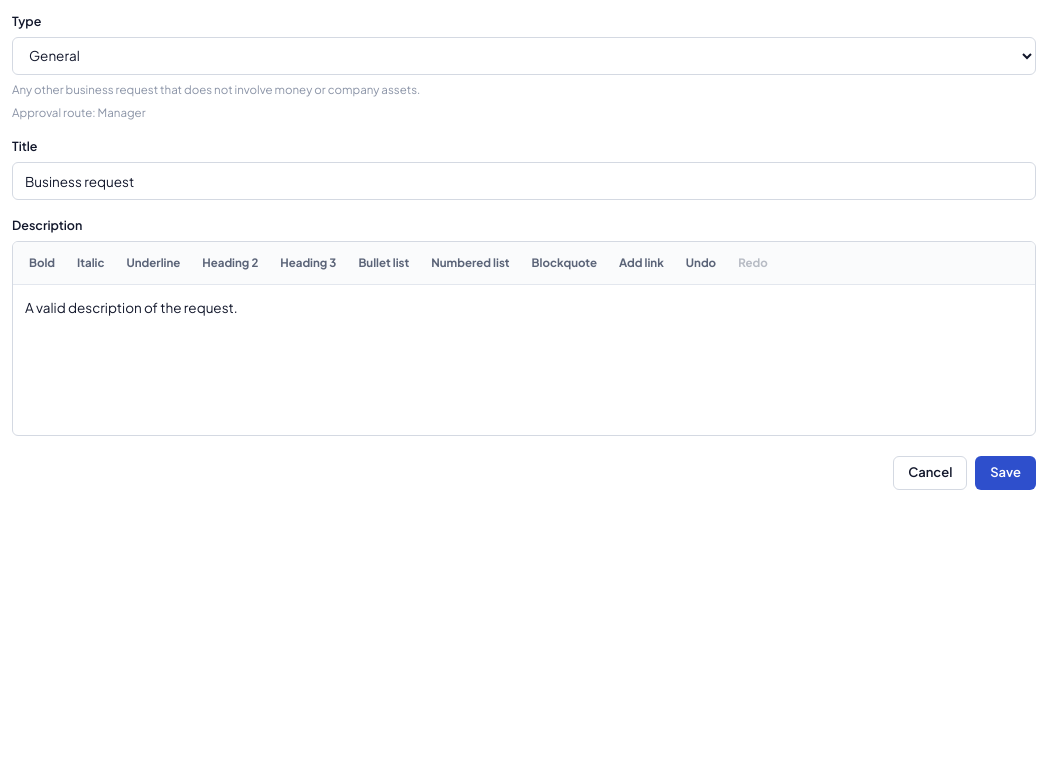
it: request type semantics (M3) › explains the difference between Purchase and Equipment before submitting
The image size is (1048, 780).
Select "Purchase" in the dropdown labelled "Type". click: (524, 56)
box: [12,37,1036,75]
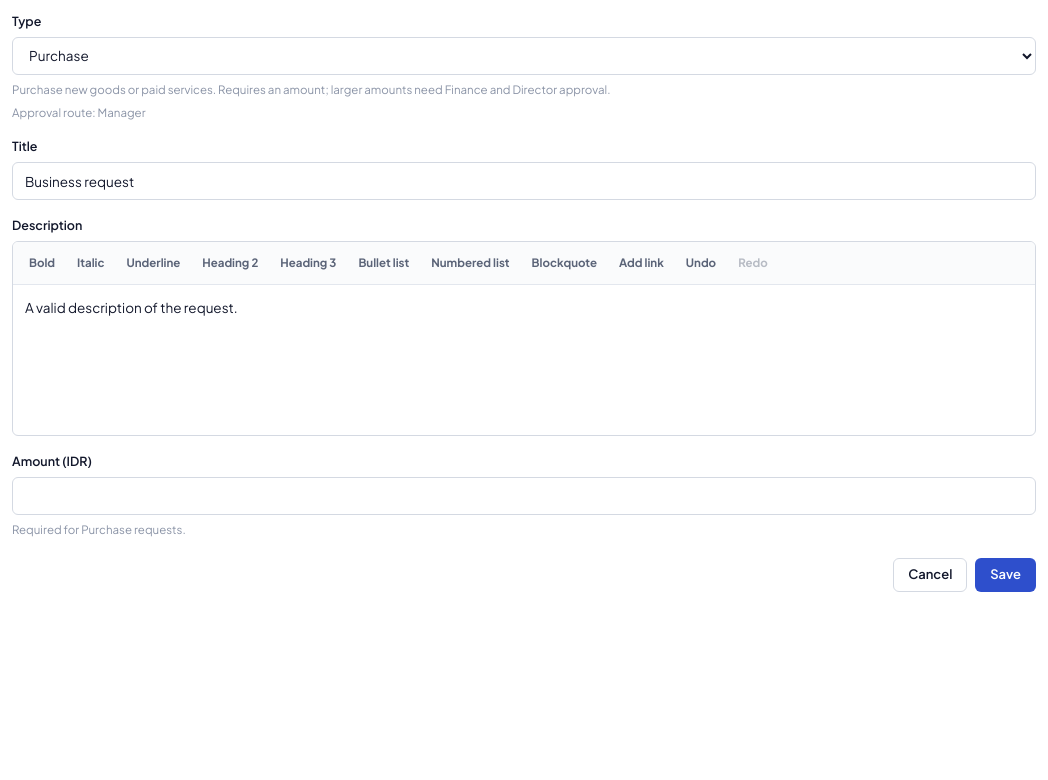
Now the text "Purchase new goods or paid services" is shown, box [12,82,610,97]
Select "Equipment" in the dropdown labelled "Type". click: (524, 56)
box: [12,37,1036,75]
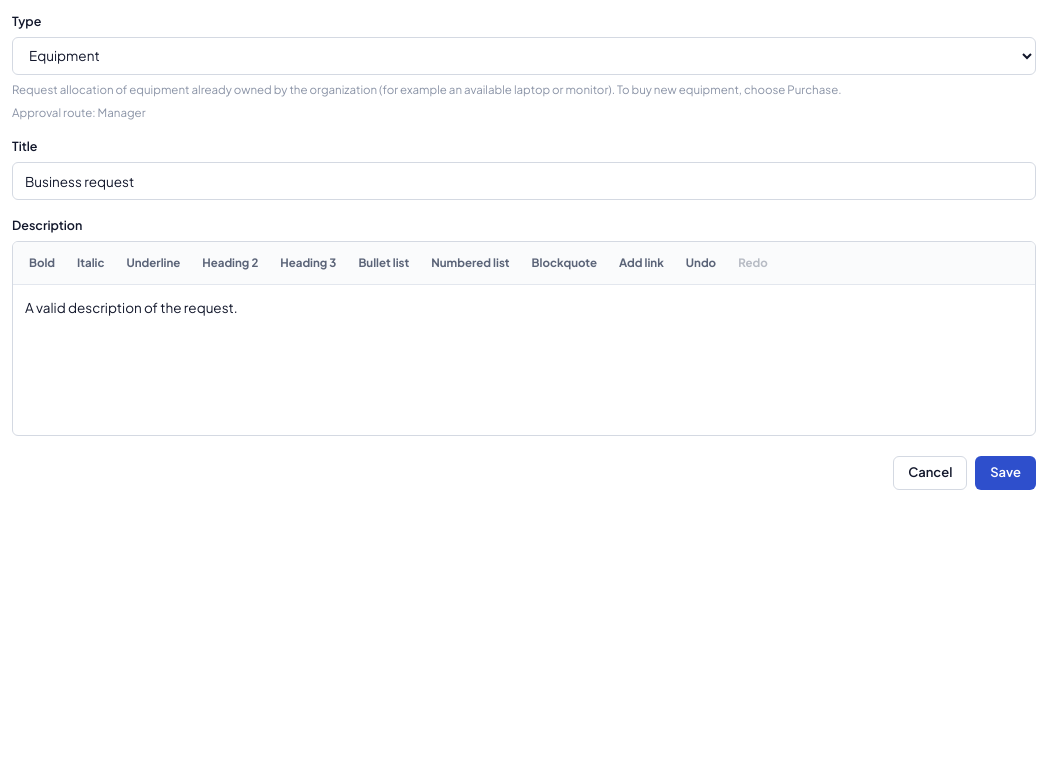
Now the text "choose Purchase" is shown, box [12,82,842,97]
